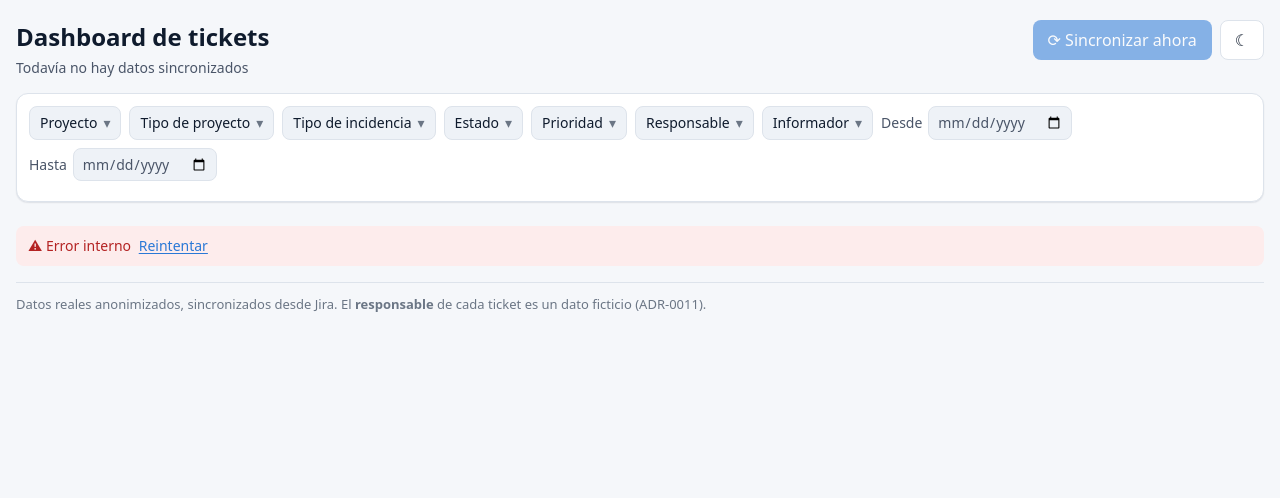
Test case: errores › si la primera carga falla, permite reintentar
The width and height of the screenshot is (1280, 498).
Expected: the message shows "Error interno", x1=46 y1=236 x2=131 y2=255
Click the button "Reintentar" at [173, 246], box x1=135 y1=234 x2=212 y2=258
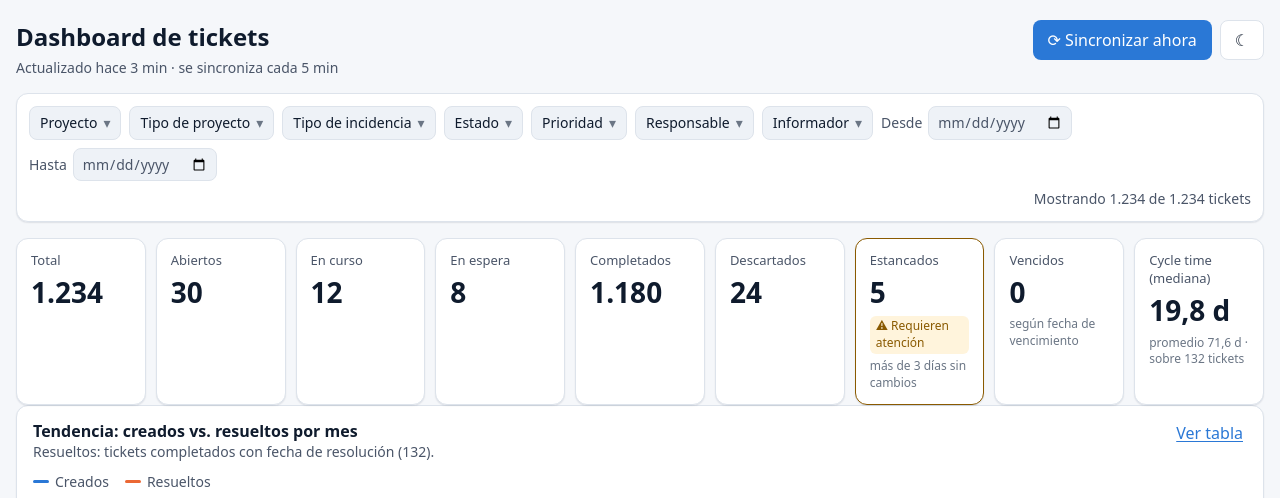
Now the heading "Total" is shown, box x1=31 y1=251 x2=60 y2=269
Now the message "⚠ Error interno Reintentar" is gone
